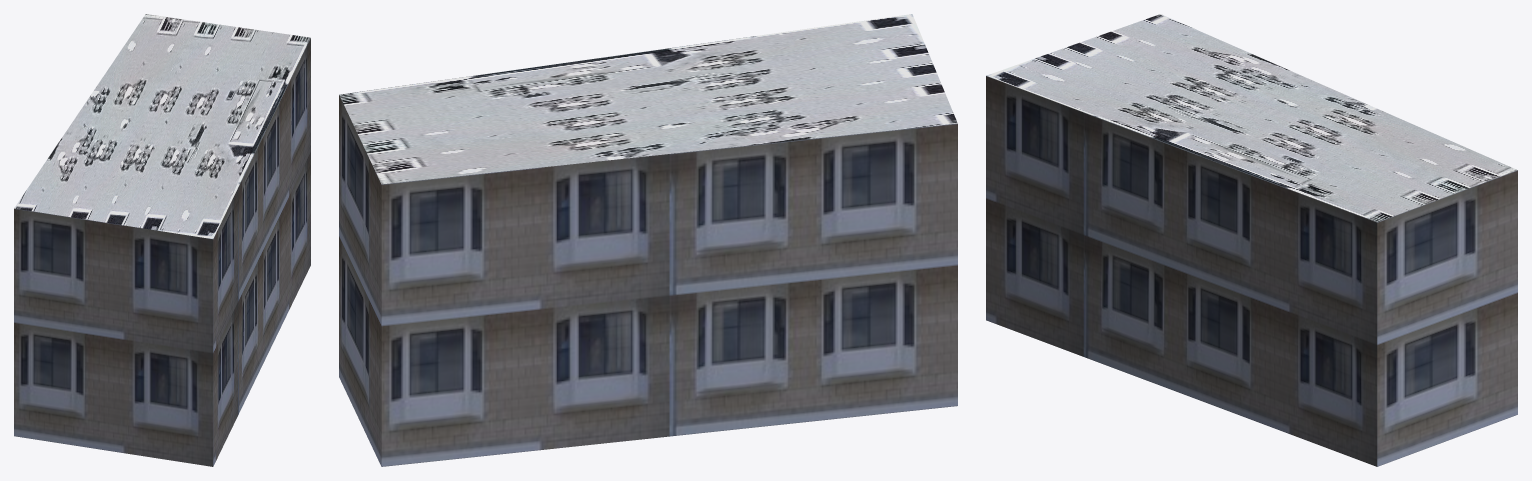
The model's file is ResTex__1716.fbx.
3 views of the same model, side by side, from view 1: azimuth 30°, elevation 25°; view 2: azimuth 150°, elevation 25°; view 3: azimuth 270°, elevation 25° (orthographic). The views are drawn at different scales.
Parts seen in each view (by area): view 1: CityEngineMaterial_3_m, CityEngineMaterial_2_m; view 2: CityEngineMaterial_3_m, CityEngineMaterial_2_m; view 3: CityEngineMaterial_3_m, CityEngineMaterial_2_m.
Part boxes in pixels (x1=…): CityEngineMaterial_3_m: x1=14, y1=38, x2=310, y2=466; CityEngineMaterial_2_m: x1=14, y1=14, x2=310, y2=238; CityEngineMaterial_3_m: x1=339, y1=95, x2=957, y2=466; CityEngineMaterial_2_m: x1=339, y1=14, x2=957, y2=184; CityEngineMaterial_3_m: x1=986, y1=76, x2=1517, y2=466; CityEngineMaterial_2_m: x1=986, y1=14, x2=1517, y2=222.
Size of the model in its own units: 10.97 by 6 by 11.83.
Materials: 2 (2 with a texture image).
